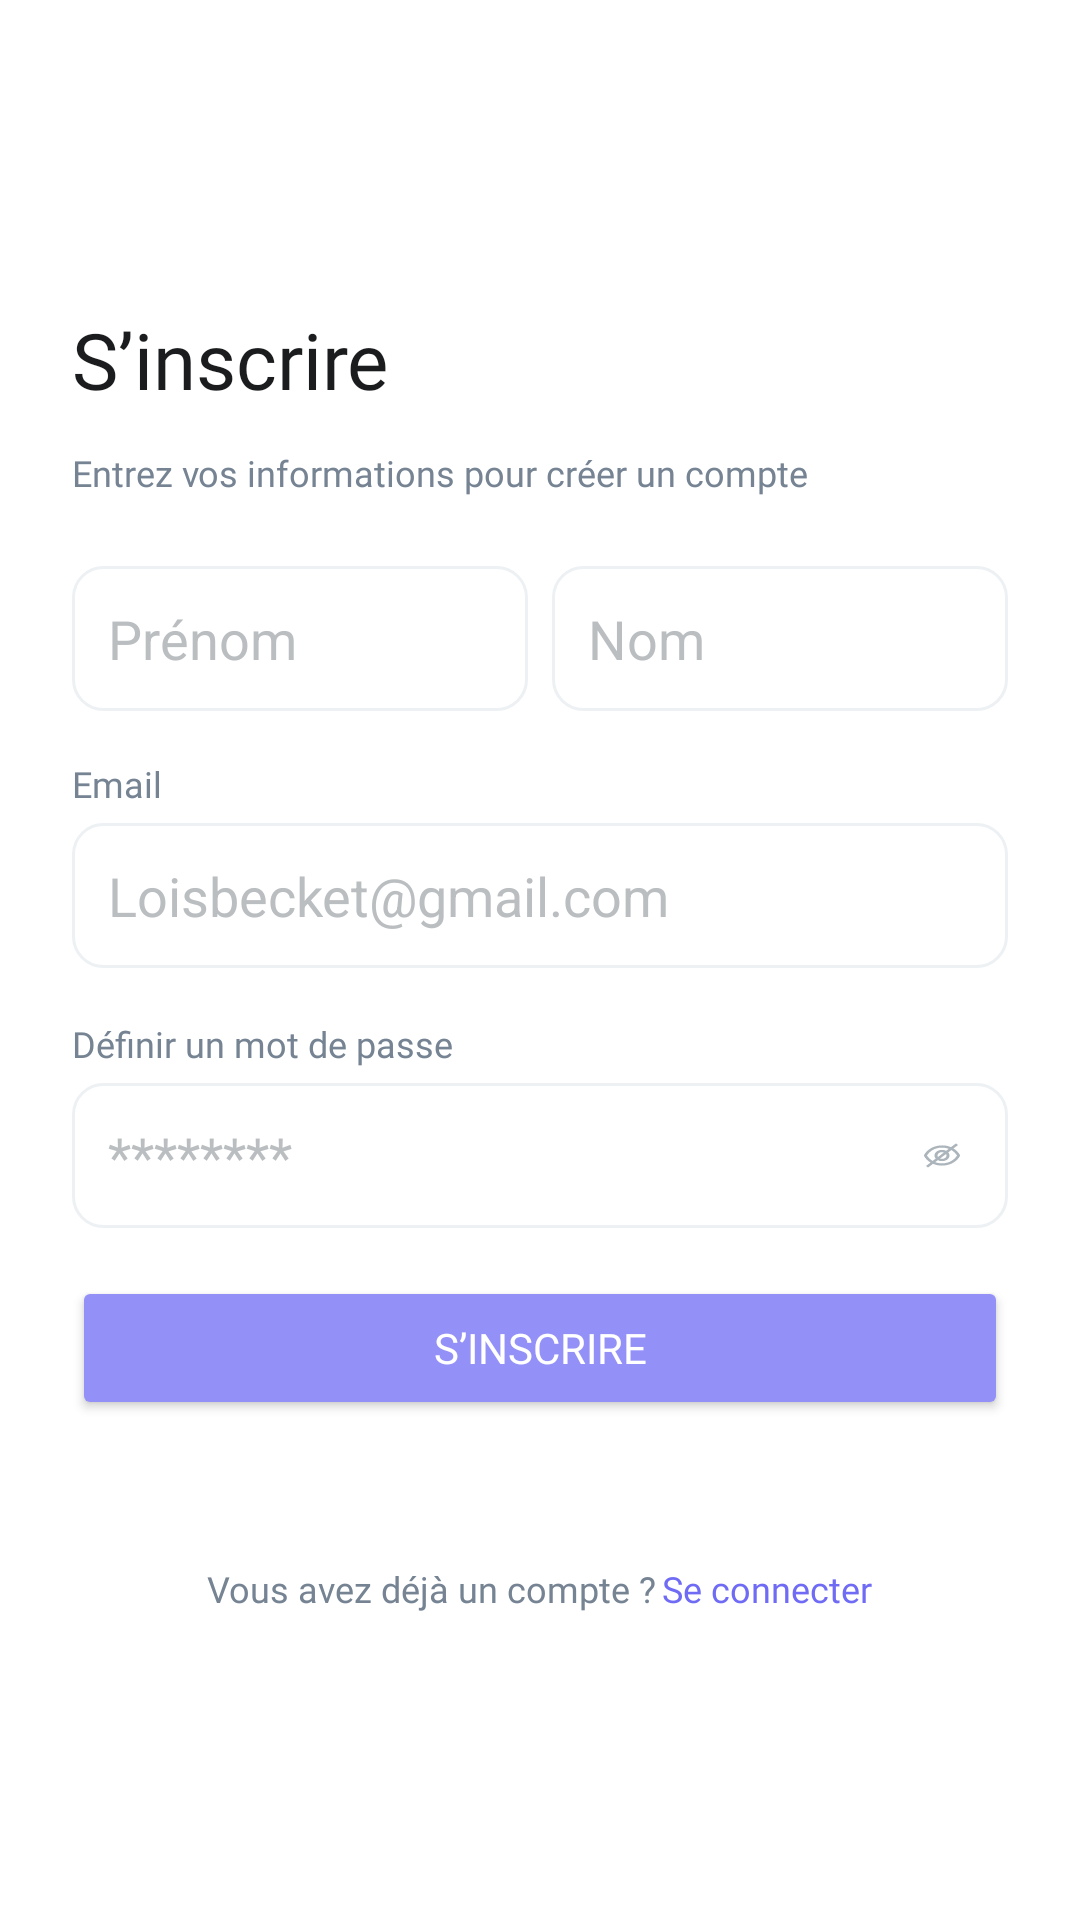

Icon bounding boxes for this 1080×1920 phone screenshot, format bbox=[x1, y1, x2, y2]:
eye off: bbox=[924, 1144, 960, 1167]
